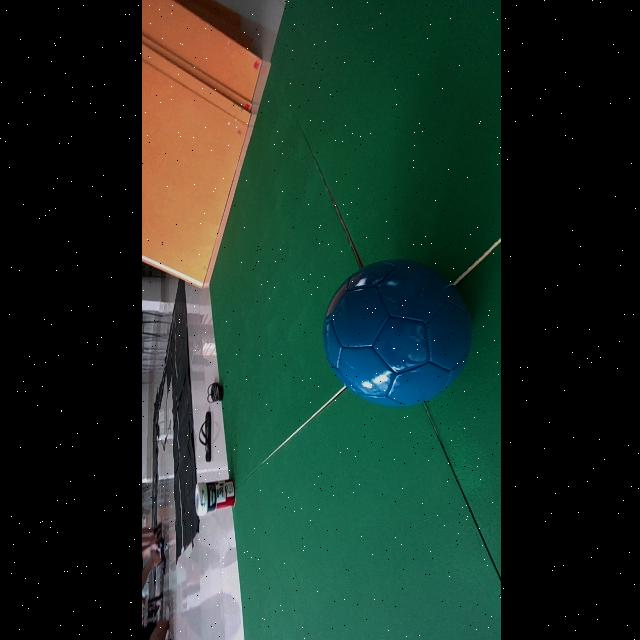B: (321, 260, 470, 407)
